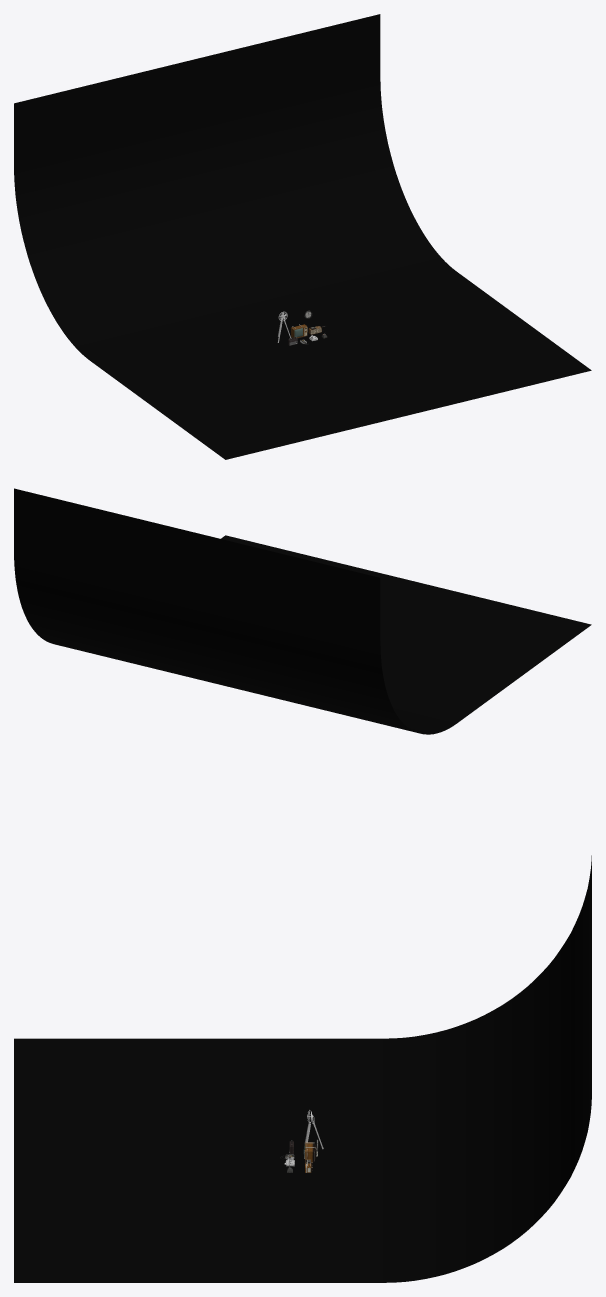
The model's file is vintage assets.fbx.
3 renders of one model, top to bottom at view 1: azimuth 30°, elevation 25°; view 2: azimuth 150°, elevation 25°; view 3: azimuth 270°, elevation 25°, orthographic. The views are drawn at different scales.
Parts seen in each view (by area): view 1: plan; view 2: plan; view 3: plan.
Part boxes in pixels (x1=…): plan: x1=14, y1=14, x2=591, y2=459; plan: x1=14, y1=488, x2=591, y2=734; plan: x1=14, y1=855, x2=591, y2=1282.
Size of the model in its own units: 2018 by 1063 by 2018.
